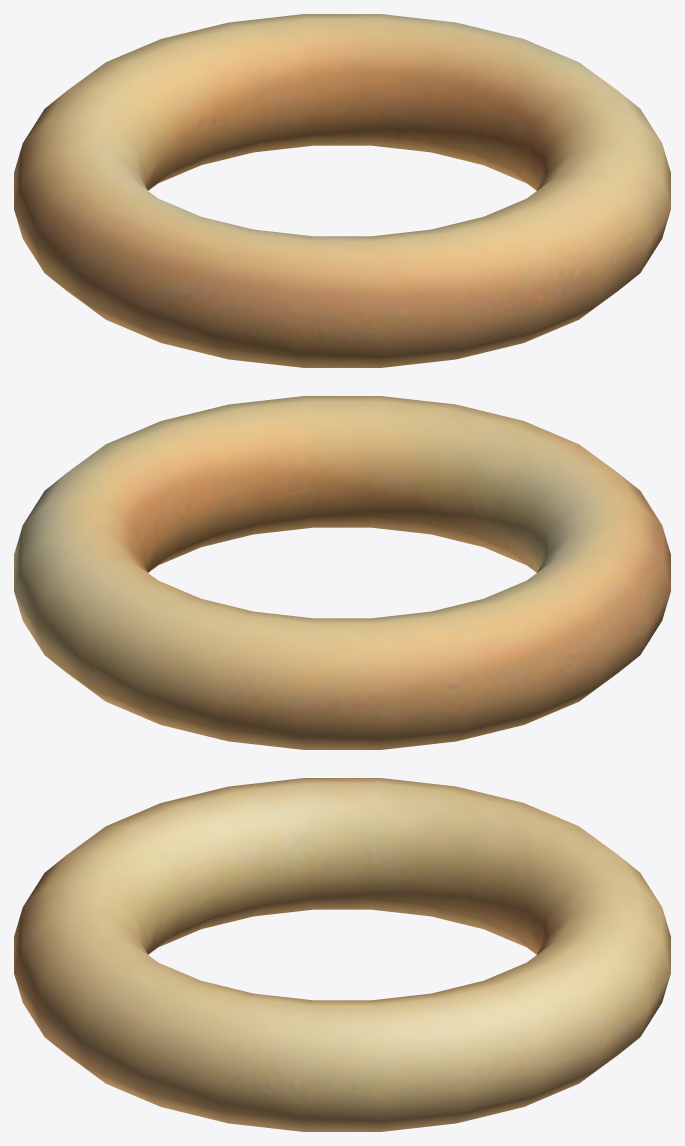
Rendered from yellow_ring.glb.
The picture shows the model from 3 angles, top to bottom: view 1: azimuth 30°, elevation 25°; view 2: azimuth 150°, elevation 25°; view 3: azimuth 270°, elevation 25°; orthographic projection.
Parts seen in each view (by area): view 1: Pool_Item_6; view 2: Pool_Item_6; view 3: Pool_Item_6.
Boxes of the visible parts, x1,y1,x2,y2 form: Pool_Item_6: (14,14,670,367); Pool_Item_6: (14,396,670,749); Pool_Item_6: (14,778,670,1131).
Bounding box in the file's own units: 1.42 × 0.2856 × 1.42.
Materials: 1 (1 with a texture image).
